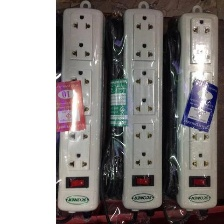three_eye_plug: (57, 5, 109, 215), (175, 7, 222, 212), (120, 6, 166, 213)
